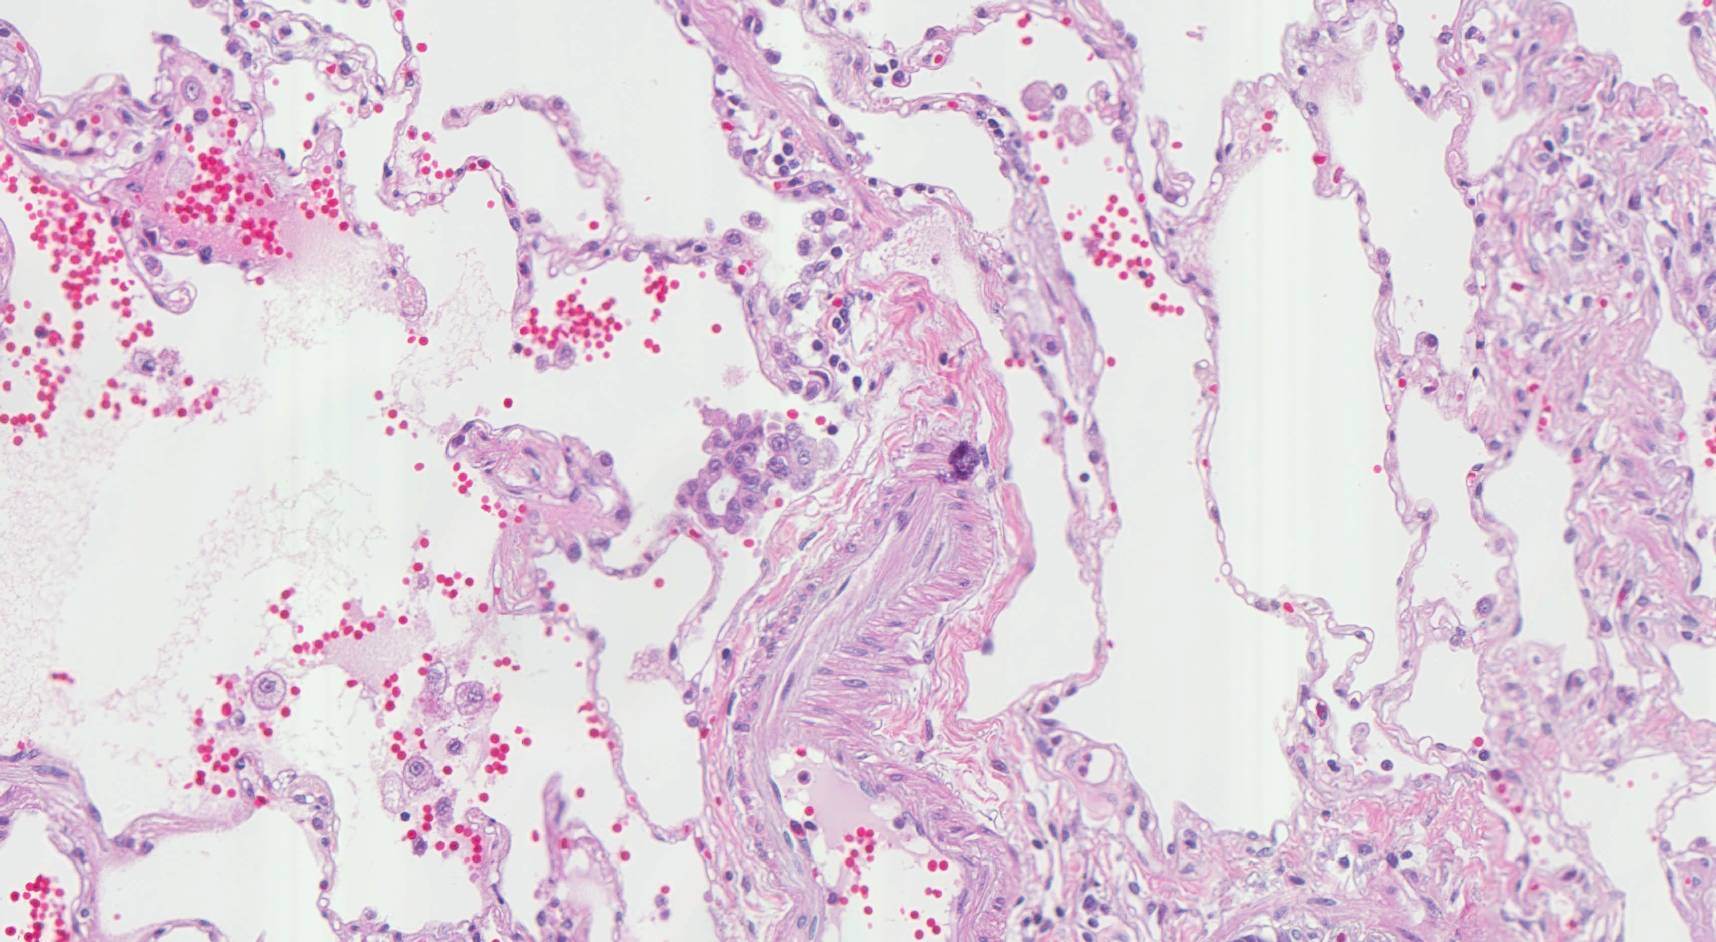stas: (671, 402, 840, 533)
